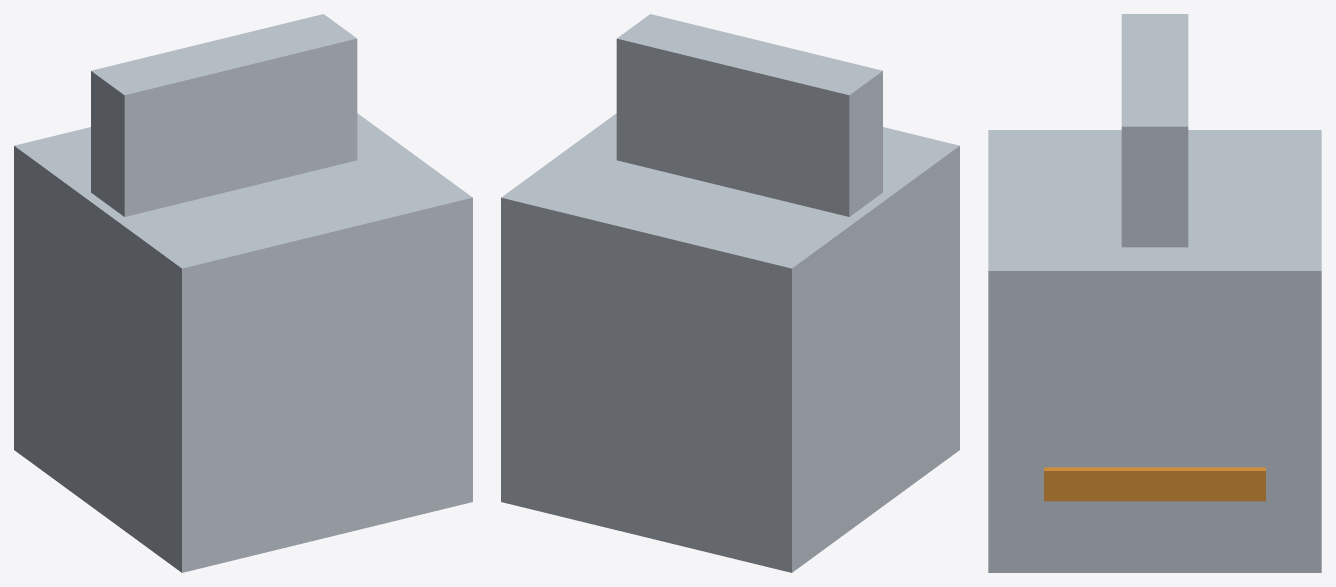
The model's file is helmet.glb.
3 renders of one model, left to right at view 1: azimuth 30°, elevation 25°; view 2: azimuth 150°, elevation 25°; view 3: azimuth 270°, elevation 25°, orthographic.
Visible parts, largest first — view 1: head; view 2: head; view 3: head.
Boxes of the visible parts, <box> form: head: <box>14,14,472,572</box>; head: <box>501,14,959,572</box>; head: <box>988,14,1321,572</box>.
Size of the model in its own units: 0.308 by 0.42 by 0.3.
